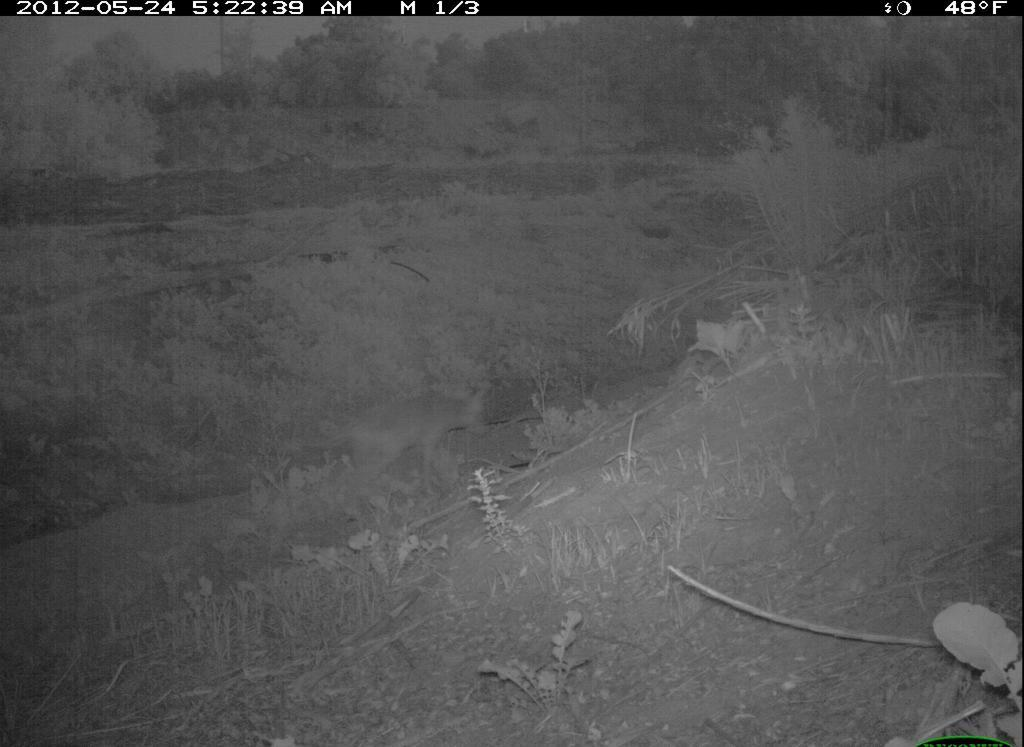coyote: (289, 377, 497, 509)
